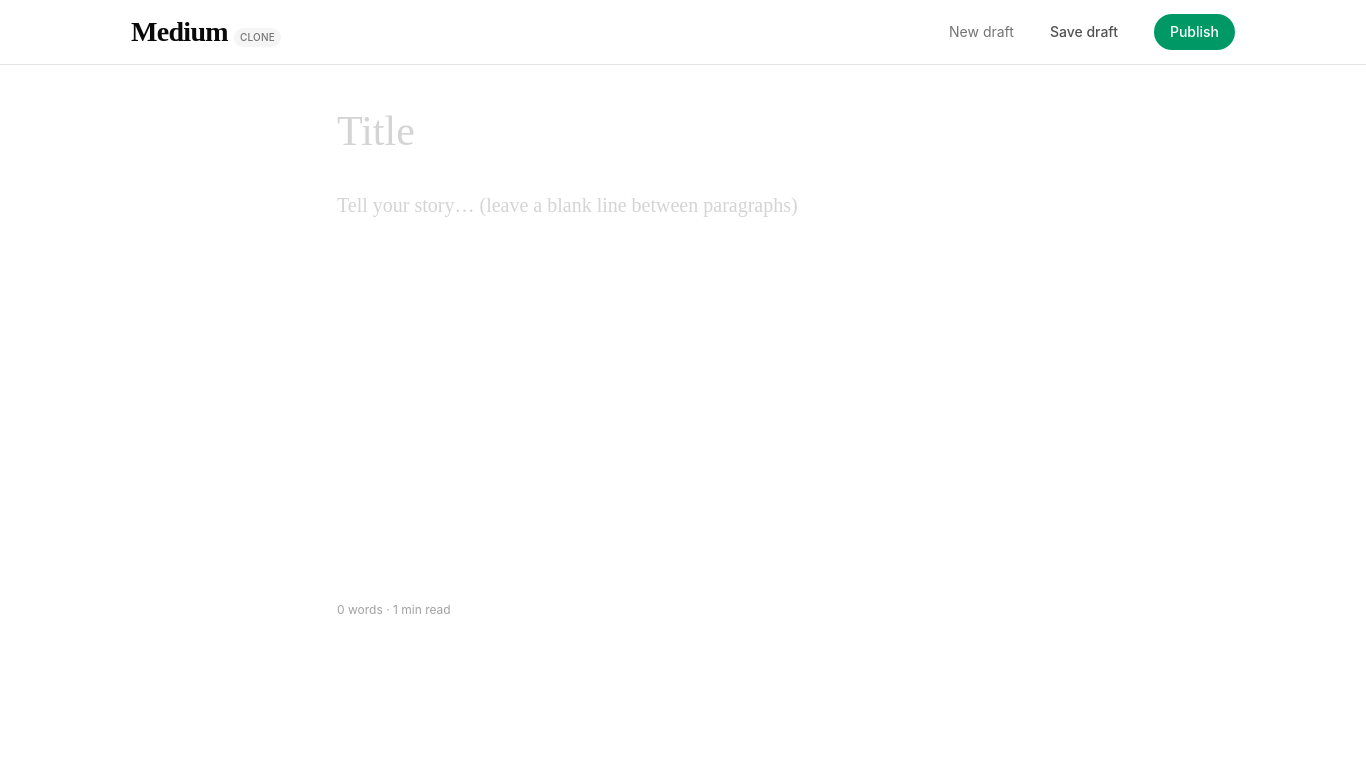
Test: editor › validates and publishes a new story
The image size is (1366, 768).
Click the button "Publish": x=1194, y=32 [1154,14,1235,50]
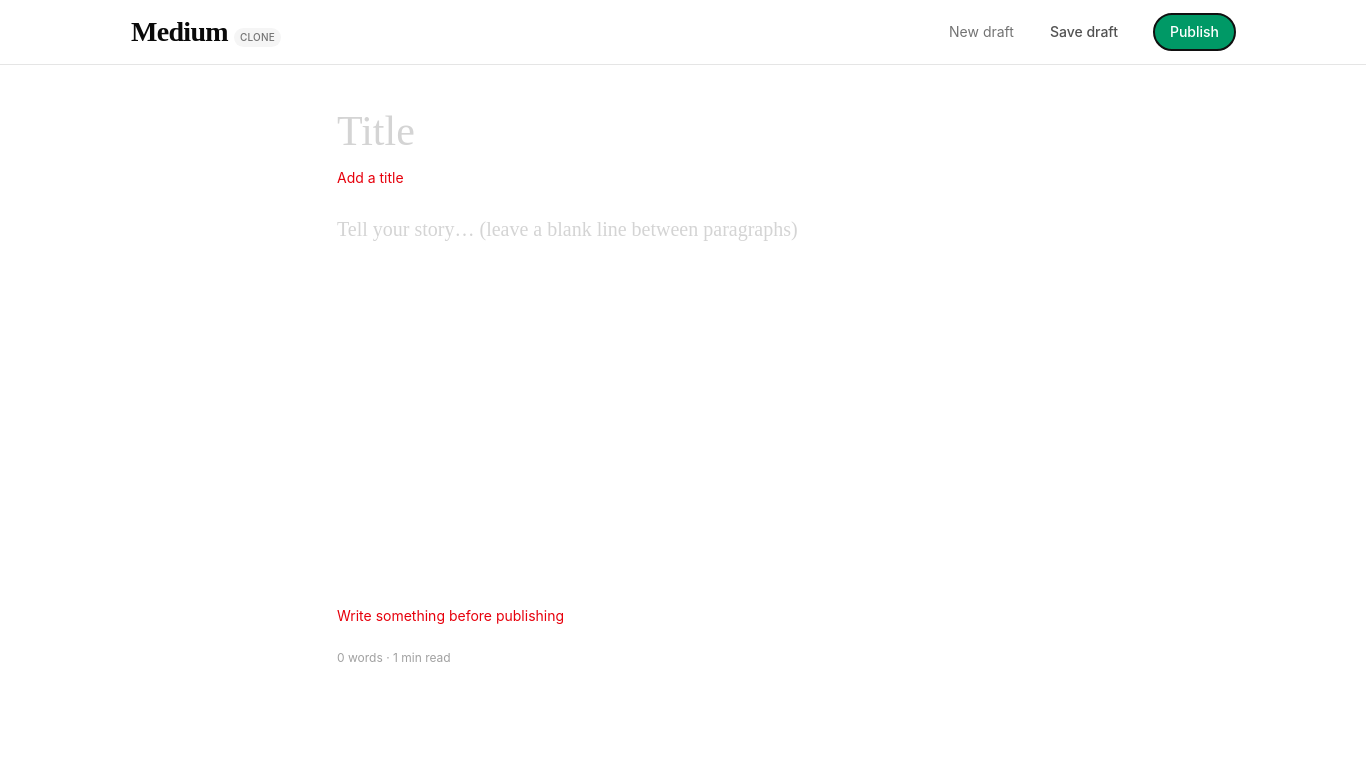
Now the text "Add a title" is shown, box [337,169,404,186]
In the text box labelled "Title": x=683, y=132 [337,105,1029,158], type "My title"
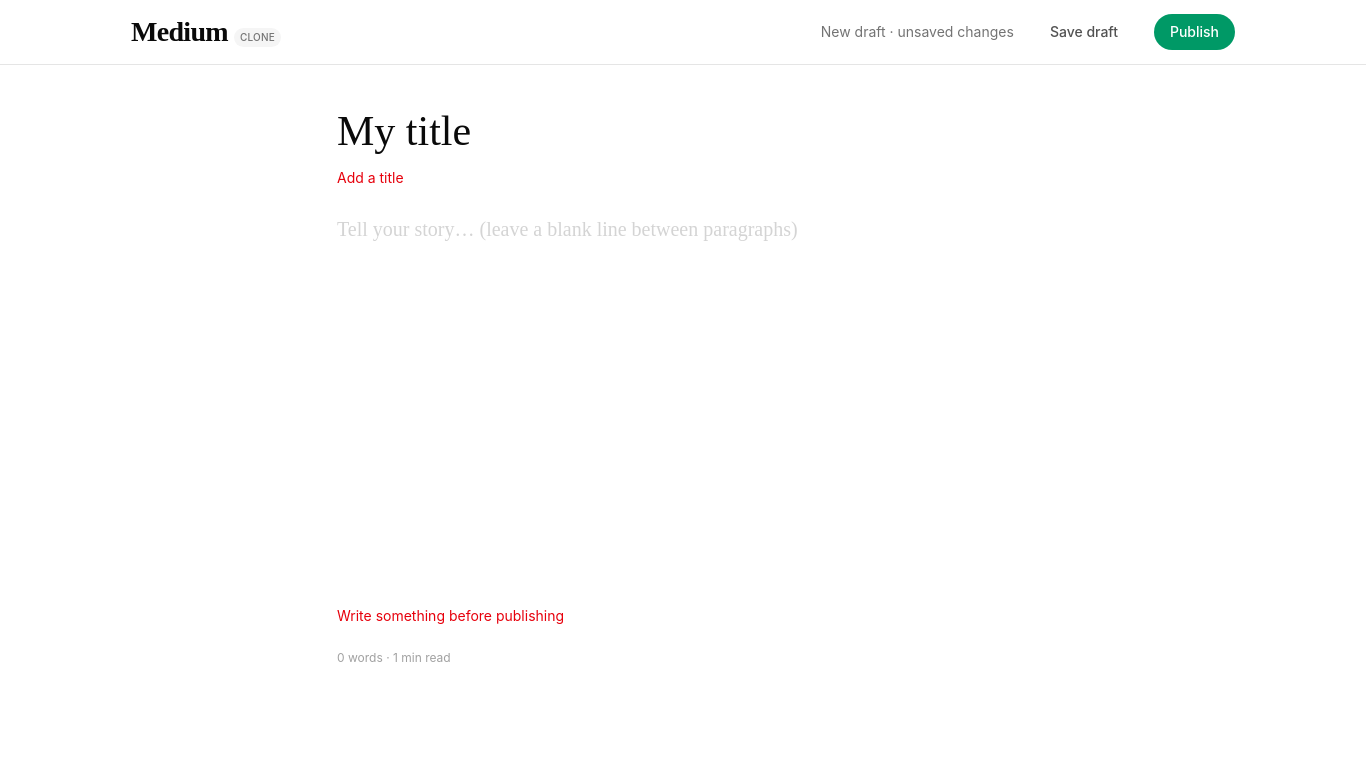
In the text box labelled "story": x=683, y=404 [337,212,1029,596], type "Body text"
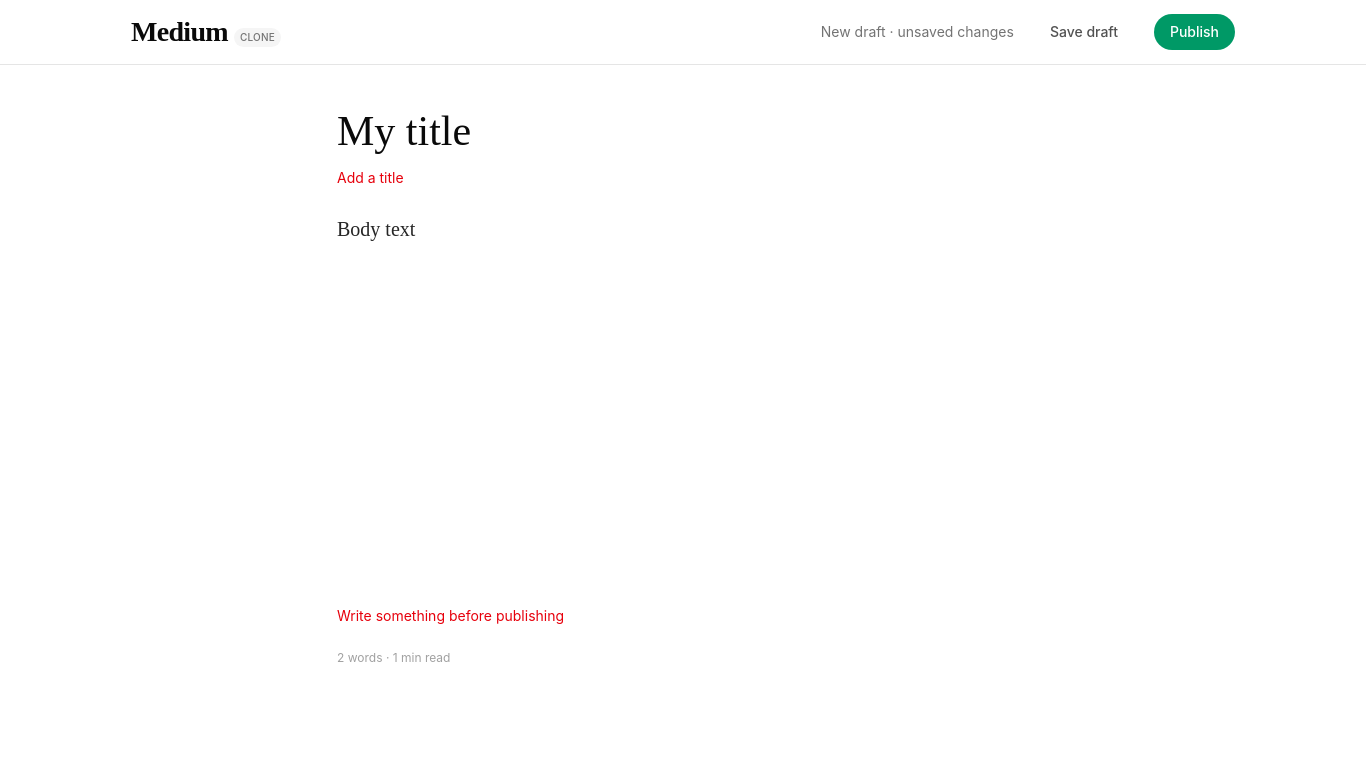
Click the button "Publish": x=1194, y=32 [1154,14,1235,50]
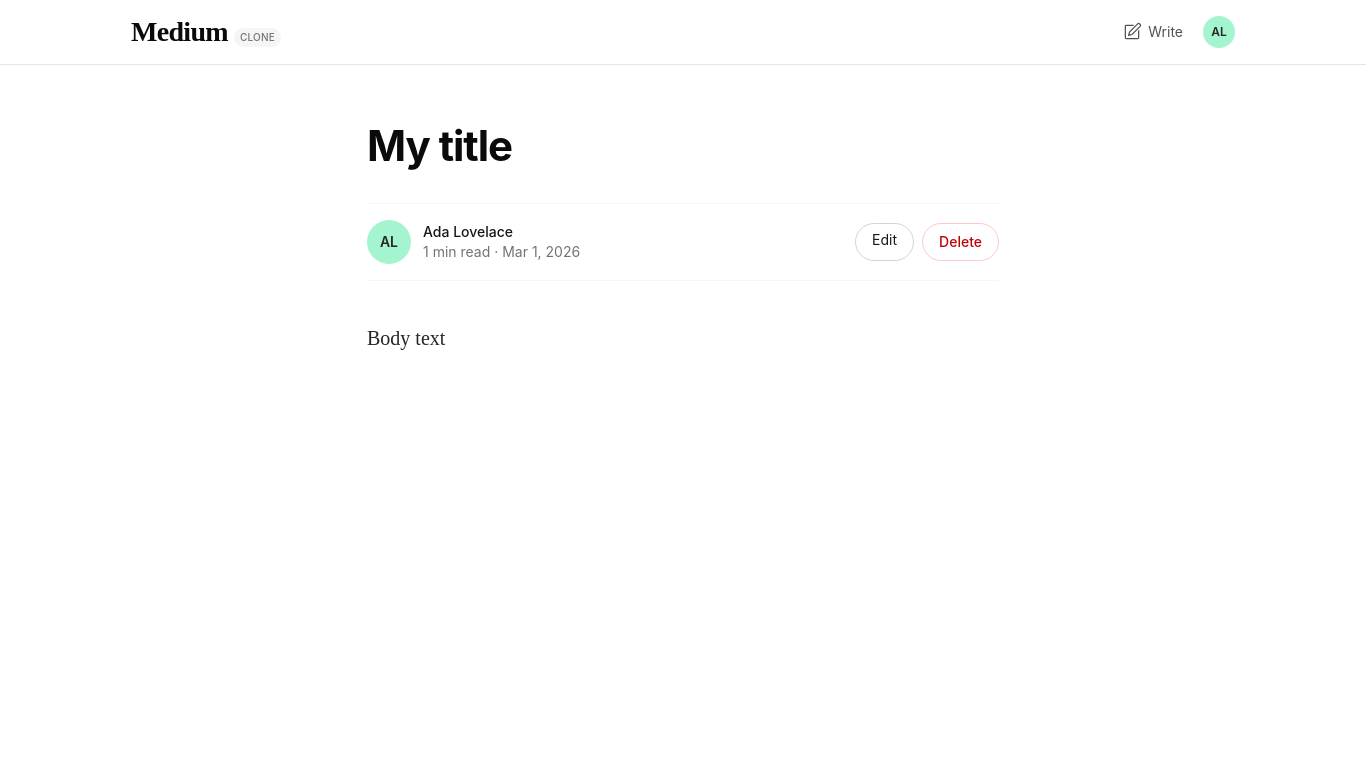
Now the heading "My title" is shown, box [367,120,512,171]
